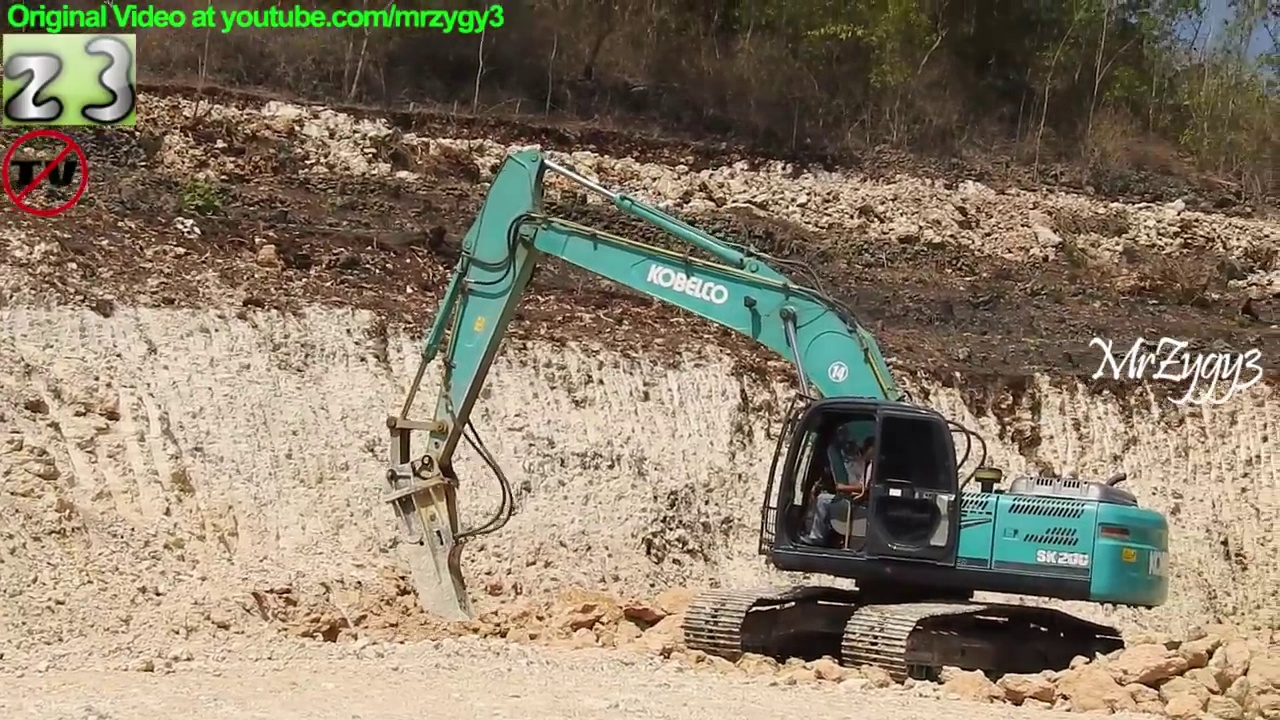truck: (375, 141, 1178, 699)
